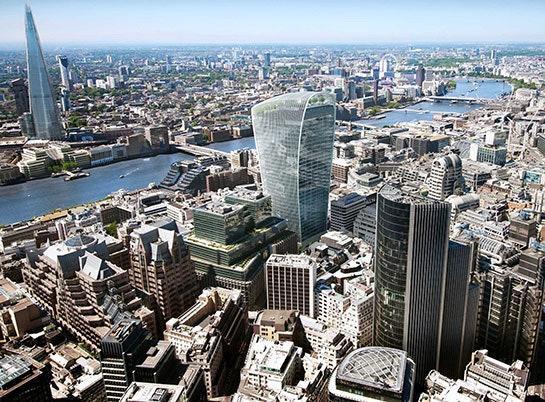Walkie talkie: (243, 78, 344, 235)
